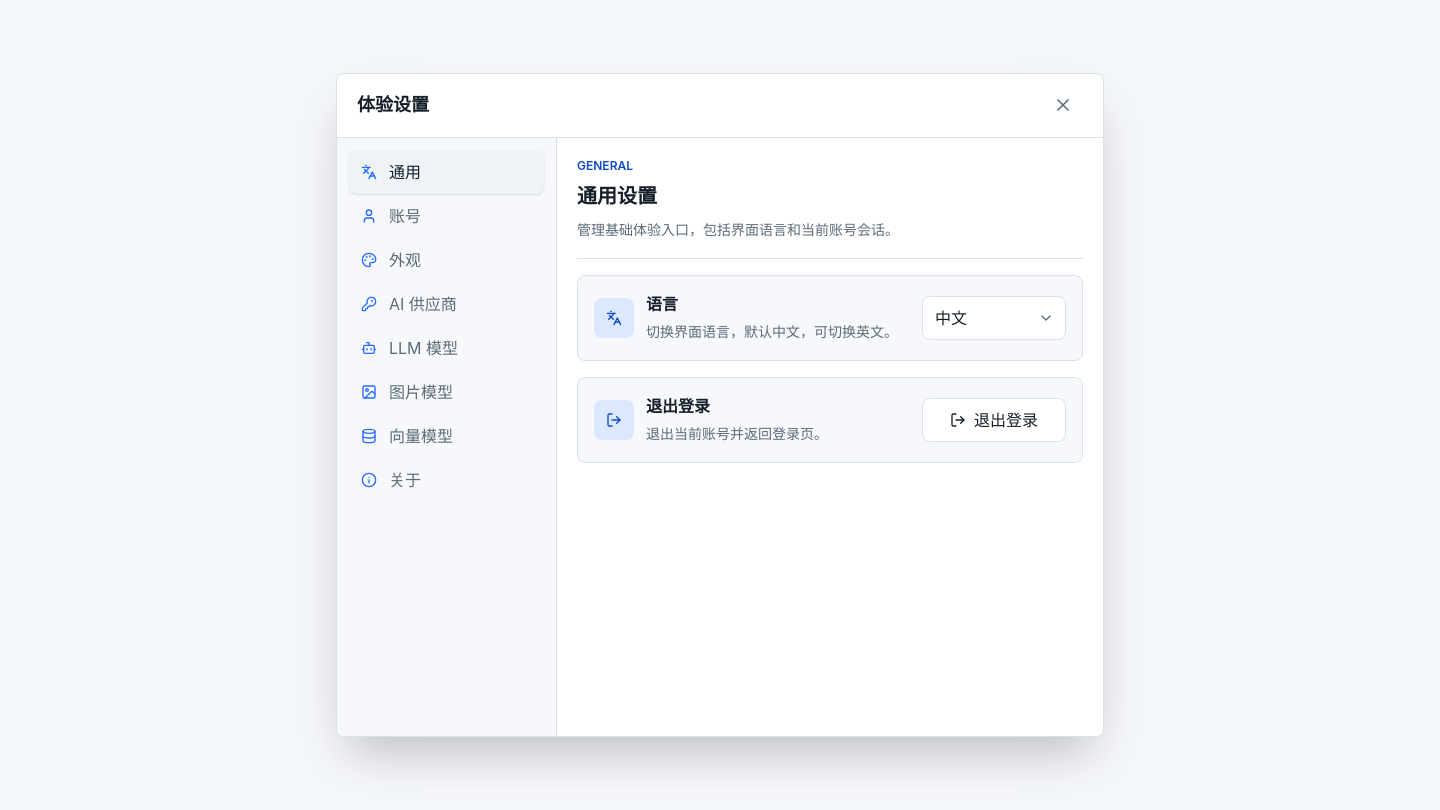
Test: ExperienceSettingsDialog › keeps provider settings visible when another AI config endpoint fails
The width and height of the screenshot is (1440, 810).
Click the button "AI 供应商" at x=446, y=304, box [349,282,544,326]
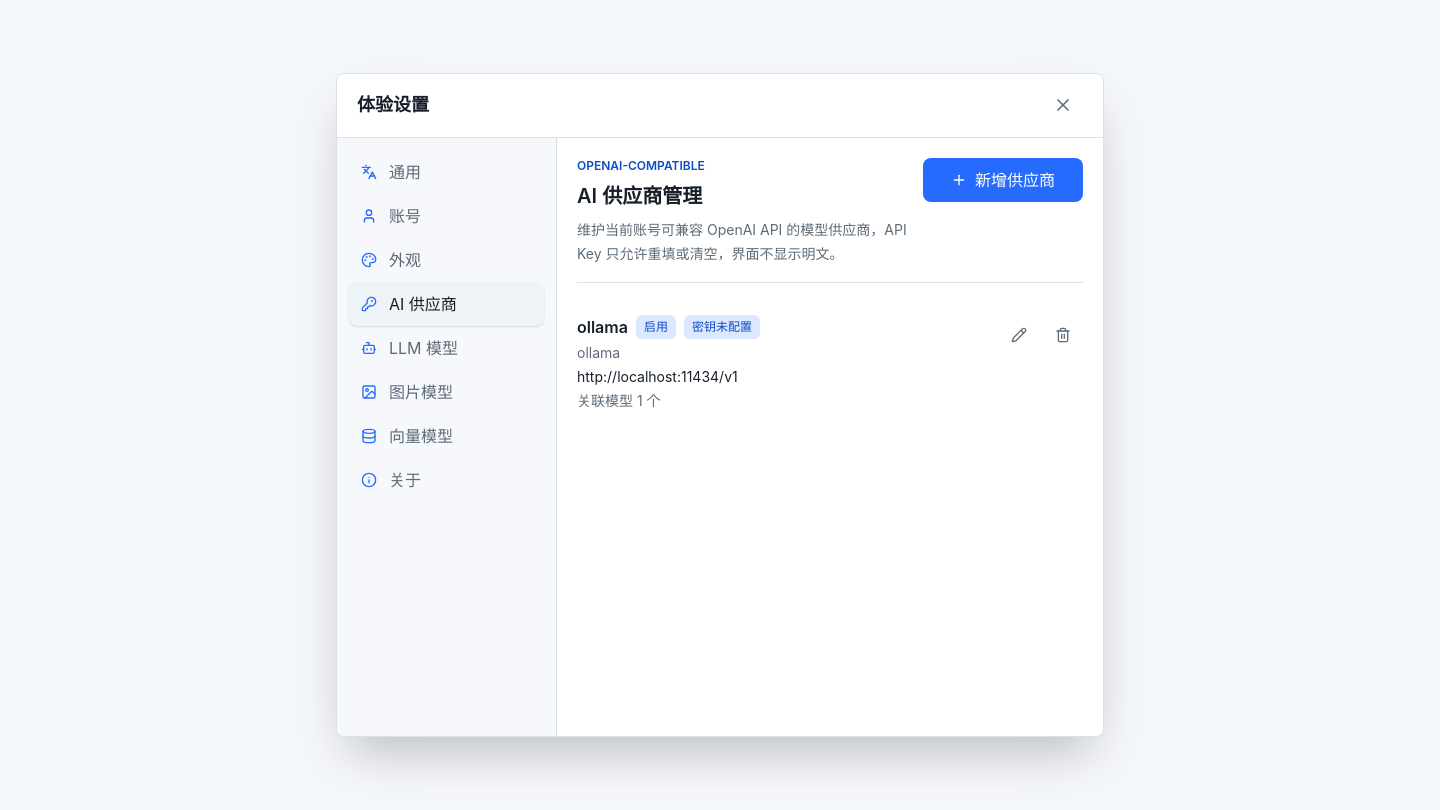
Result: the heading "AI 供应商管理" is shown at [577,184,702,208]
Result: the text "密钥未配置" is shown at [684,315,760,339]
Result: the heading "ollama" is shown at [577,315,628,339]
